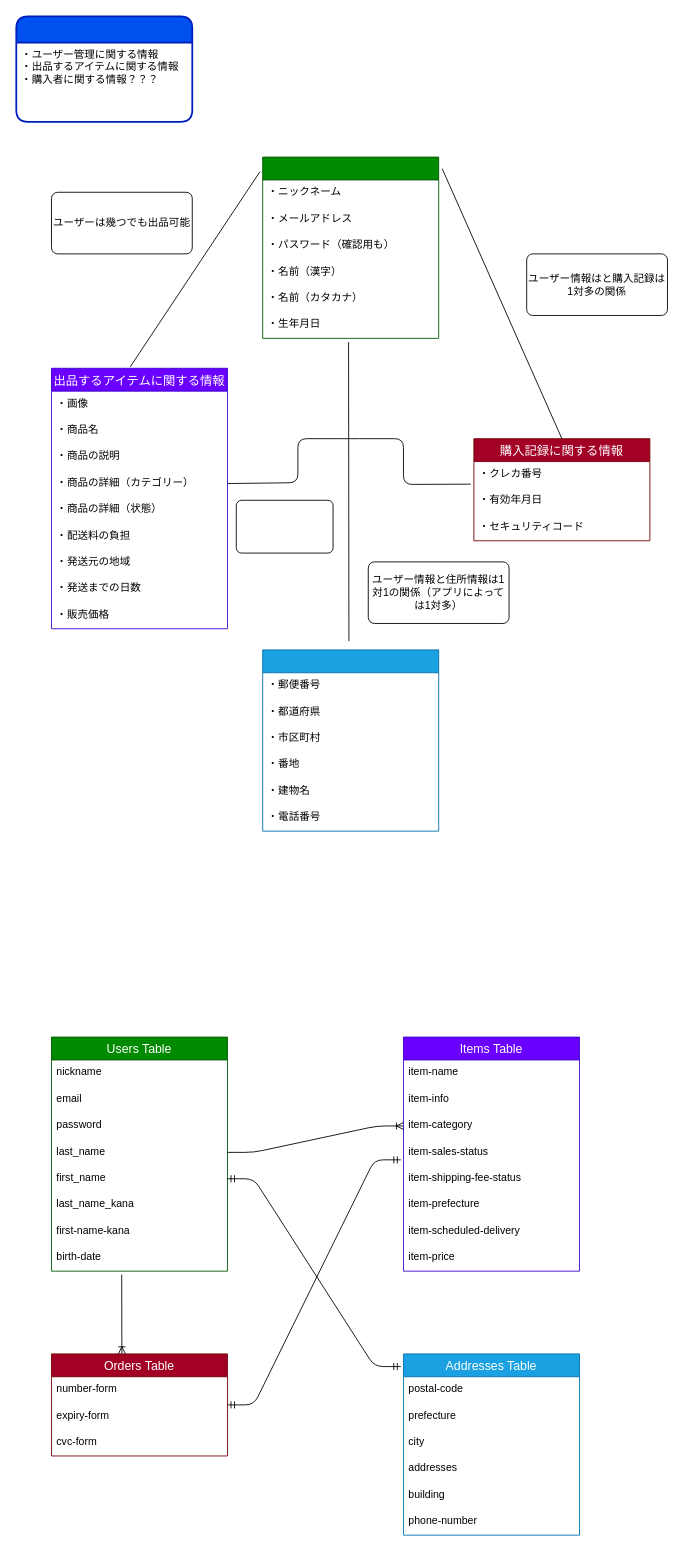
The diagram is 683 pixels wide and 1552 high, and some of its shapes have lost their labels. Each missing label, with the box of its shape:
Entity: (15, 15, 193, 122)
アイテム情報と購入記録は 1対1の関係: (235, 499, 333, 553)
ユーザー管理に関する情報: (262, 156, 439, 338)
住所情報に関する情報: (262, 649, 439, 831)
